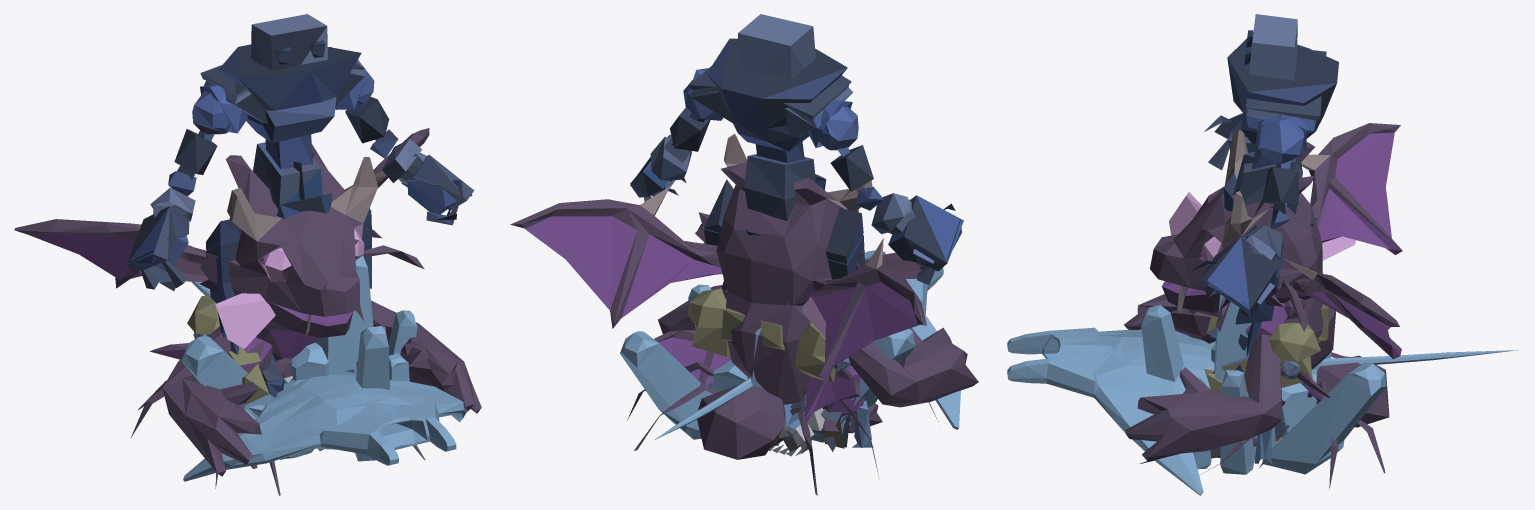
File: lo_units_low.glb
The picture shows the model from 3 angles, left to right: view 1: azimuth 30°, elevation 25°; view 2: azimuth 150°, elevation 25°; view 3: azimuth 270°, elevation 25°; orthographic projection.
Visible parts, largest first — view 1: leviathan_0, colossus_0, seraph_0, prismguard_0, inkray_0, bolter_0, shardling_0, mender_0, glowsquid_0, cragling_0; view 2: leviathan_0, colossus_0, glowsquid_0, prismguard_0, bolter_0, mender_0, seraph_0, inkray_0, tunneler_0, shardling_0, delver_0; view 3: leviathan_0, colossus_0, seraph_0, prismguard_0, bolter_0, inkray_0, glowsquid_0, shardling_0.
Boxes of the visible parts, <box> form: leviathan_0: <box>14,128,481,476</box>; colossus_0: <box>126,14,474,354</box>; seraph_0: <box>183,281,467,481</box>; prismguard_0: <box>181,255,417,461</box>; inkray_0: <box>139,229,424,374</box>; bolter_0: <box>187,295,357,404</box>; shardling_0: <box>291,342,329,380</box>; mender_0: <box>150,343,292,468</box>; glowsquid_0: <box>130,380,425,495</box>; cragling_0: <box>262,354,354,396</box>; leviathan_0: <box>510,133,978,407</box>; colossus_0: <box>630,14,963,447</box>; glowsquid_0: <box>627,361,938,495</box>; prismguard_0: <box>620,284,915,445</box>; bolter_0: <box>688,288,850,451</box>; mender_0: <box>654,330,882,433</box>; seraph_0: <box>654,250,960,439</box>; inkray_0: <box>684,223,935,432</box>; tunneler_0: <box>768,397,824,456</box>; shardling_0: <box>712,360,850,435</box>; delver_0: <box>707,382,873,447</box>; leviathan_0: <box>1124,123,1402,461</box>; colossus_0: <box>1190,14,1338,378</box>; seraph_0: <box>1007,327,1518,495</box>; prismguard_0: <box>1141,294,1386,474</box>; bolter_0: <box>1204,304,1330,443</box>; inkray_0: <box>1169,192,1355,339</box>; glowsquid_0: <box>1140,352,1389,489</box>; shardling_0: <box>1211,344,1316,437</box>.
Bounding box in the file's own units: 5.62 × 5.25 × 6.03.
